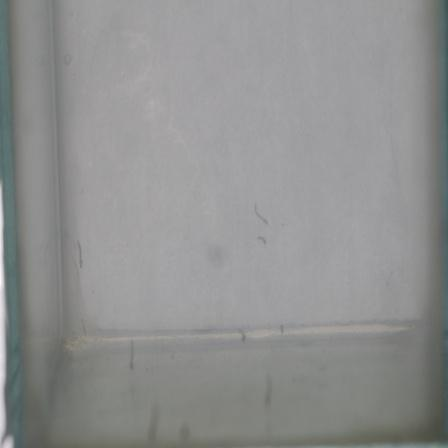Jentik-Nyamuk: (69, 237, 92, 272), (250, 200, 272, 228), (124, 335, 141, 368)
